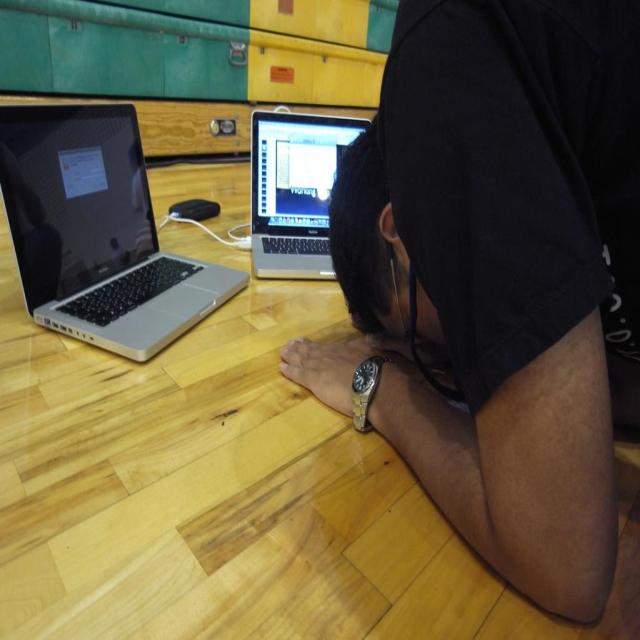laptop: (3, 101, 249, 364)
